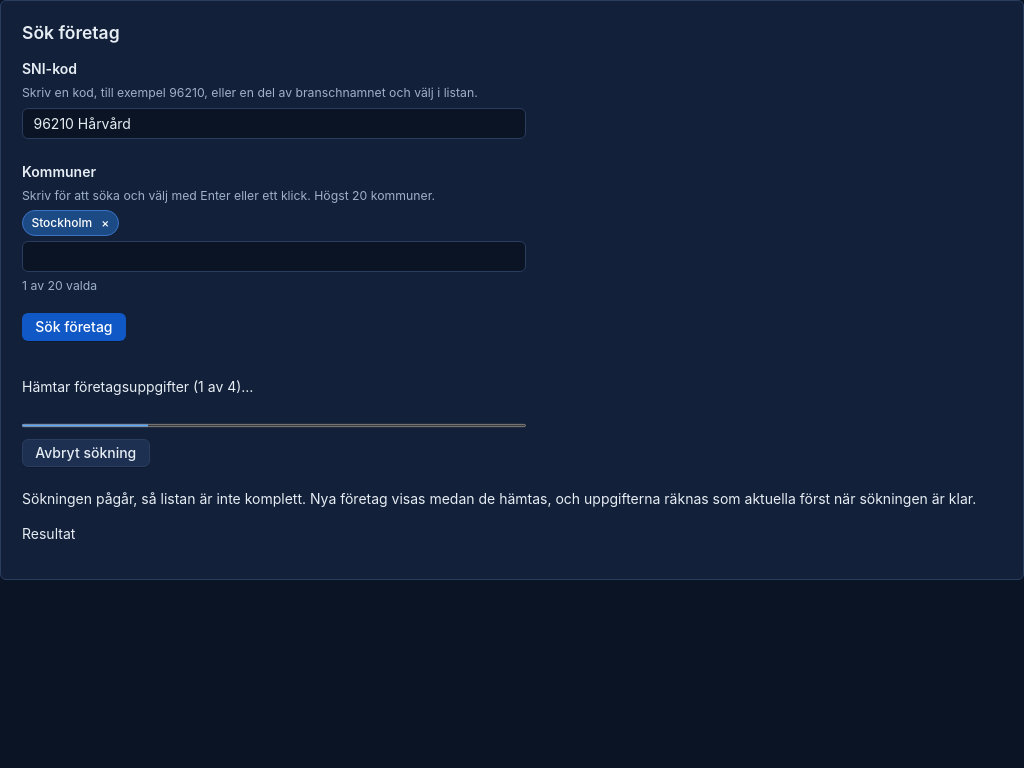
Test: SearchPage cancel › shows the Swedish error when cancel returns 409 job_not_cancellable
Click the button "Avbryt sökning".
click(86, 453)  # box [22,439,150,467]
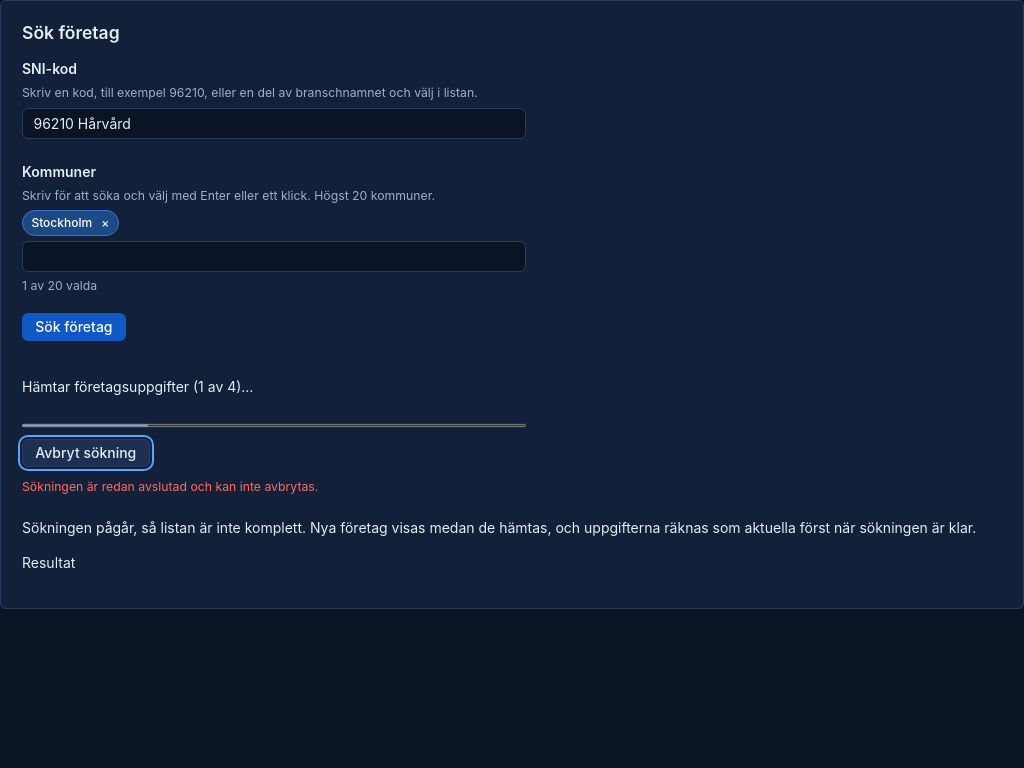
Result: the message "Sökningen är redan avslutad och kan inte avbrytas." is shown at [22,478,318,496]
